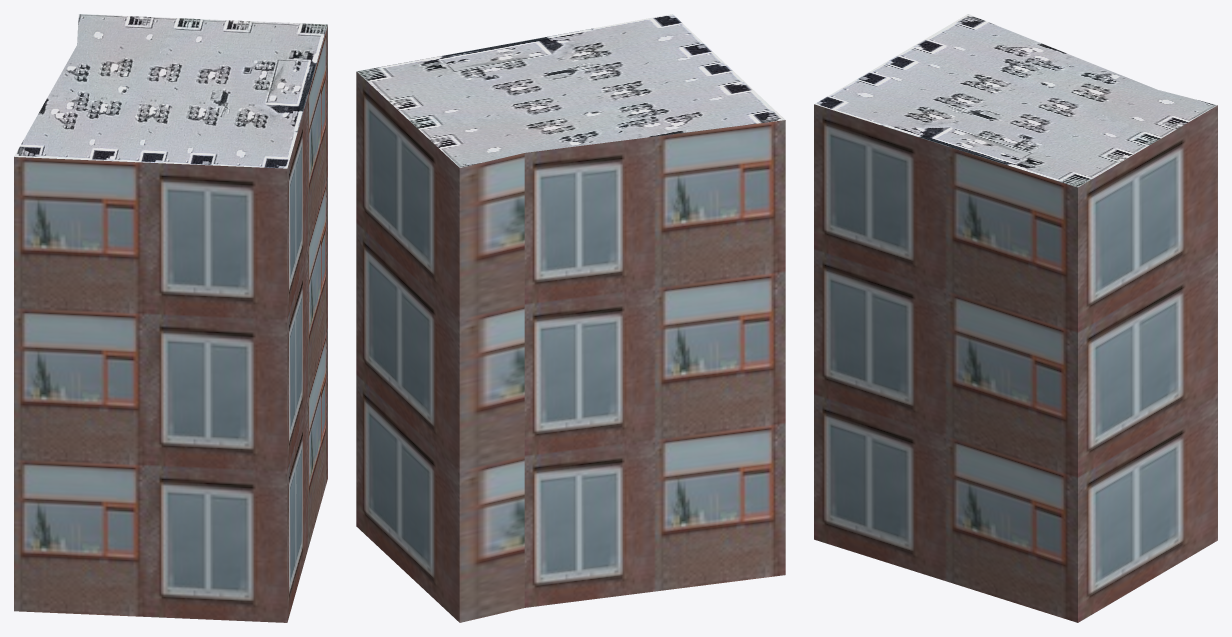
The model's file is ResTex__1075.fbx.
3 views of the same model, side by side, from view 1: azimuth 30°, elevation 25°; view 2: azimuth 150°, elevation 25°; view 3: azimuth 270°, elevation 25° (orthographic). The views are drawn at different scales.
Parts seen in each view (by area): view 1: CityEngineMaterial_19_m, CityEngineMaterial_15_m; view 2: CityEngineMaterial_19_m, CityEngineMaterial_15_m; view 3: CityEngineMaterial_19_m, CityEngineMaterial_15_m.
Boxes of the visible parts, x1,y1,x2,y2 form: CityEngineMaterial_19_m: [14, 25, 327, 622]; CityEngineMaterial_15_m: [14, 14, 327, 168]; CityEngineMaterial_19_m: [356, 72, 785, 622]; CityEngineMaterial_15_m: [356, 14, 784, 167]; CityEngineMaterial_19_m: [814, 104, 1217, 622]; CityEngineMaterial_15_m: [814, 14, 1217, 187].
Bounding box in the file's own units: 7.7 × 9 × 7.57.
2 materials, 2 textured.
